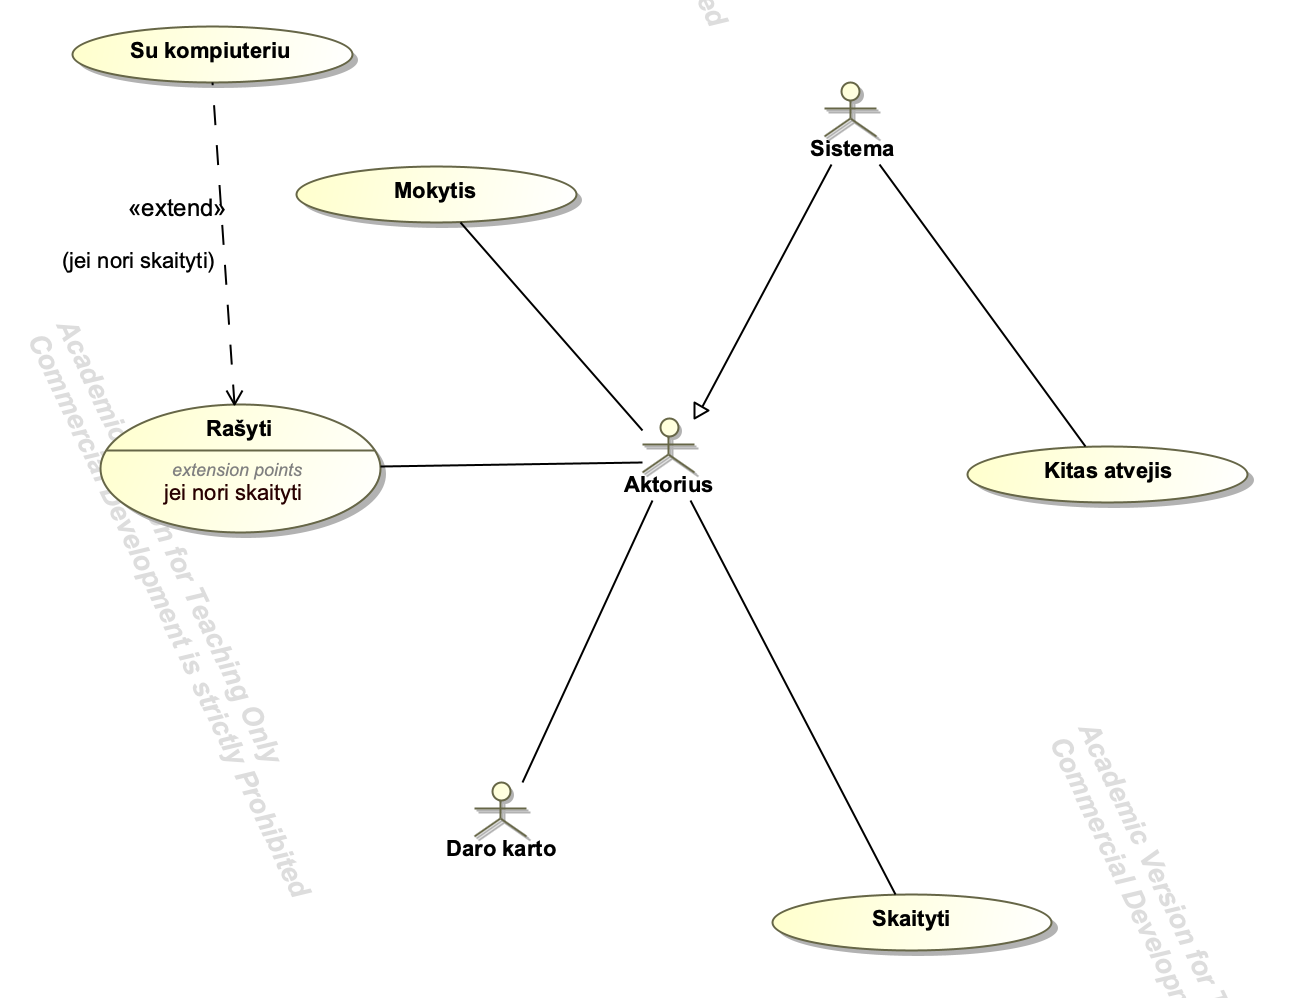actor: (823, 77, 881, 142), (470, 779, 531, 838), (642, 415, 701, 474)
association: (690, 499, 896, 894), (880, 162, 1087, 444), (465, 224, 646, 435), (520, 500, 652, 780), (691, 162, 833, 421), (207, 83, 251, 405), (382, 453, 642, 475)
text: (158, 455, 326, 506), (125, 36, 296, 69), (51, 245, 220, 275), (1040, 455, 1171, 491), (436, 830, 565, 866), (196, 413, 289, 448), (870, 901, 957, 937), (122, 195, 229, 223), (619, 471, 721, 498), (805, 133, 897, 162), (390, 176, 484, 204)
use_case: (97, 399, 384, 538), (767, 891, 1056, 956), (292, 162, 580, 227), (69, 23, 356, 88), (964, 444, 1252, 507)
